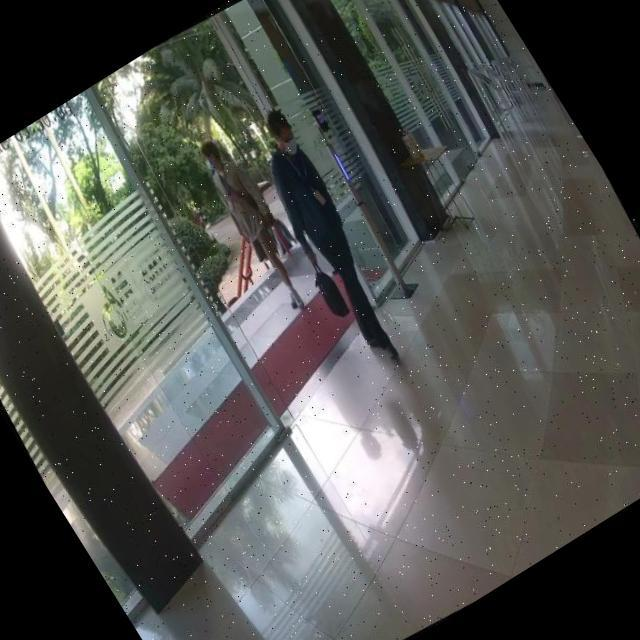person: (222, 100, 428, 372), (182, 130, 326, 318)
